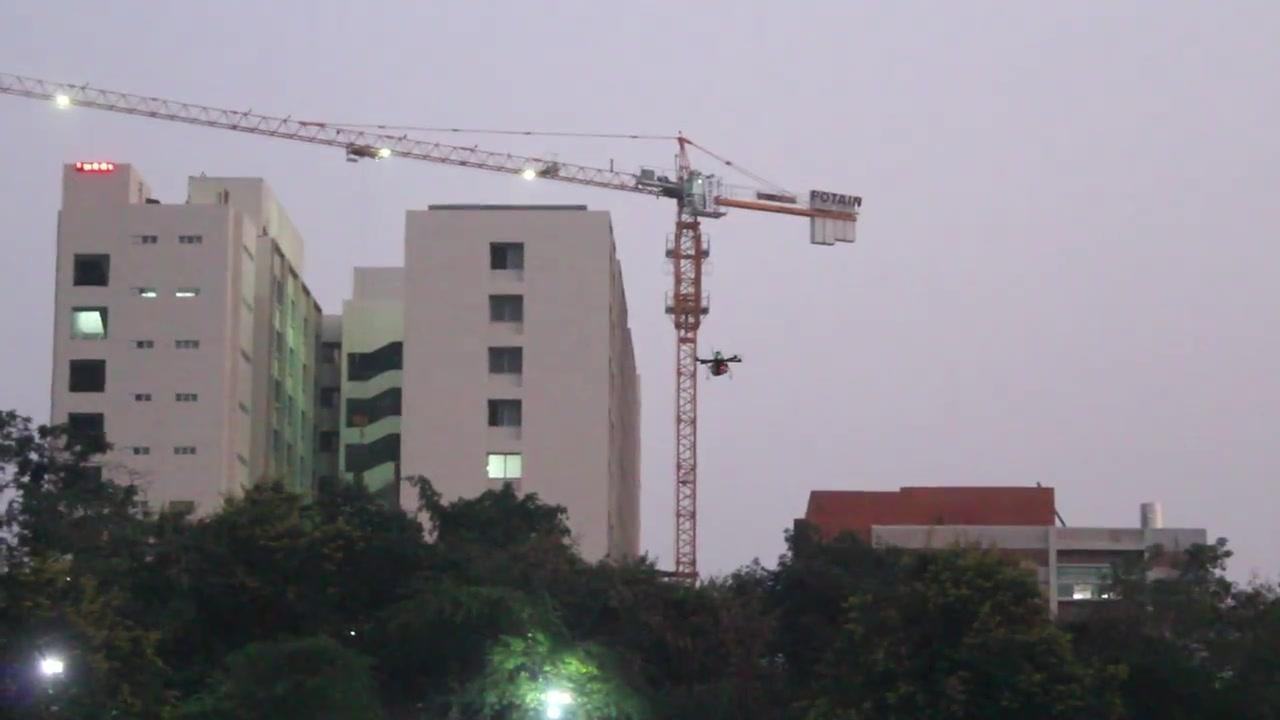UAV: (695, 351, 744, 378)
